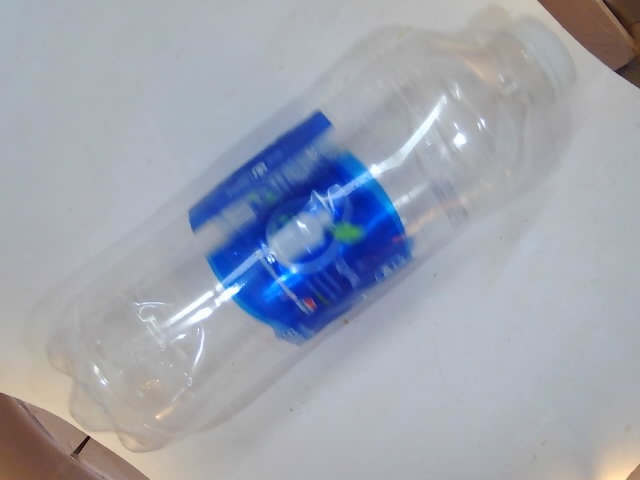plastic: (28, 26, 565, 458)
